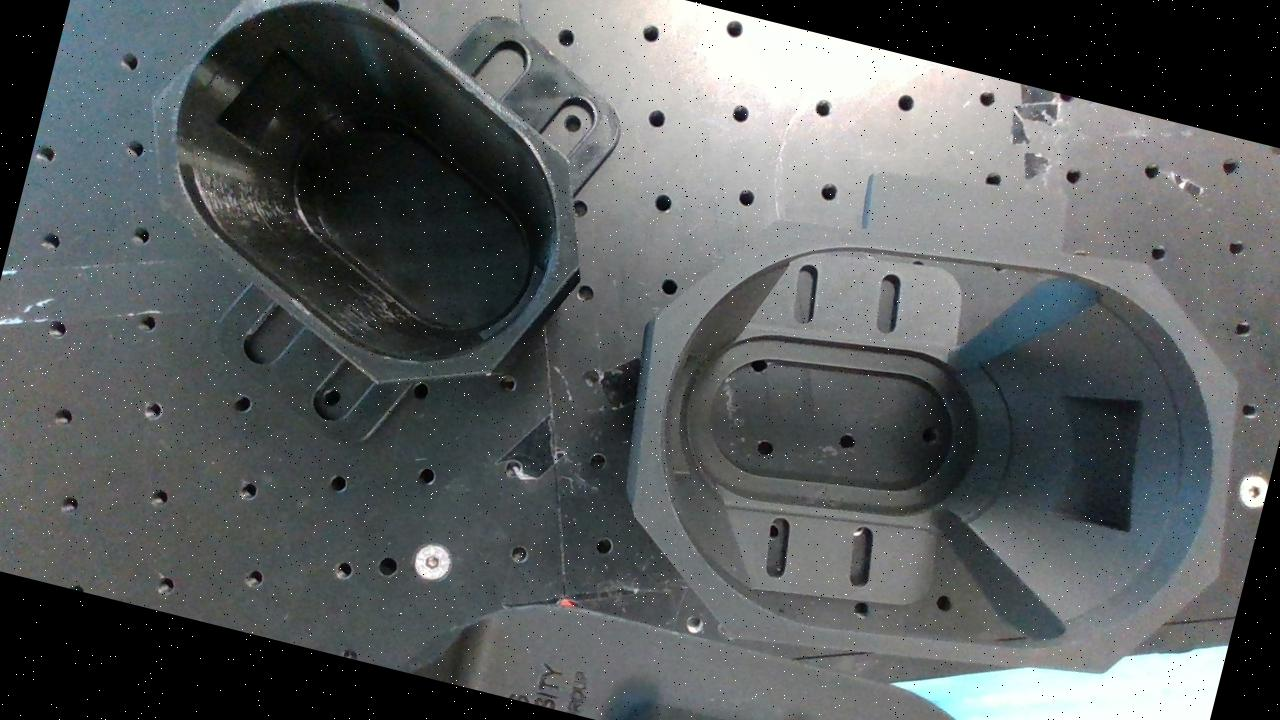big_interface: (583, 150, 1280, 720)
small_interface: (99, 0, 634, 425)
